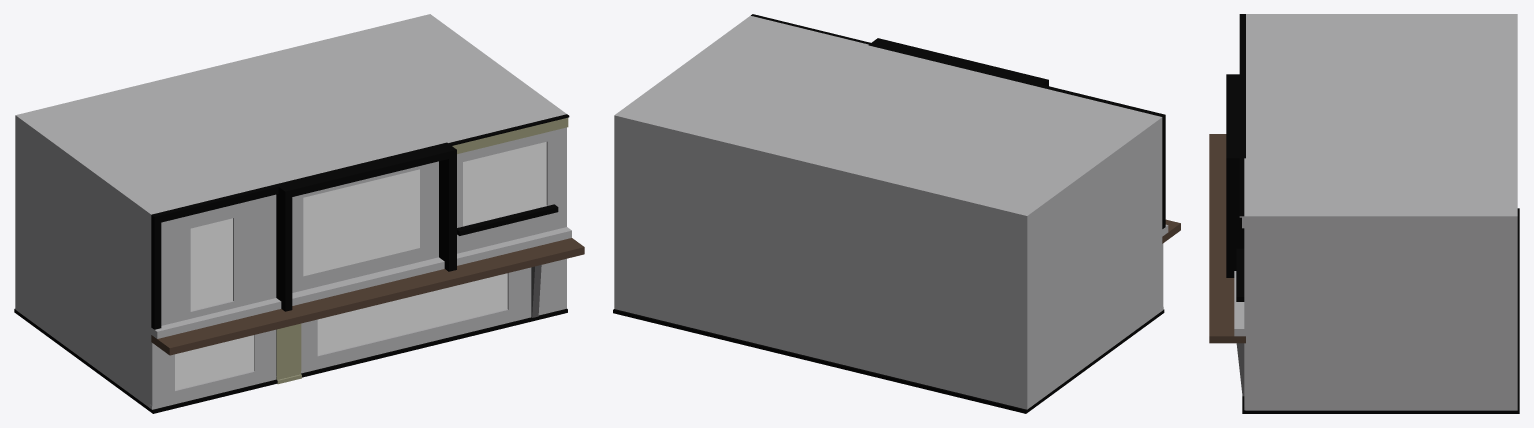
Rendered from Shoppingventer3.fbx.
3 renders of one model, left to right at view 1: azimuth 30°, elevation 25°; view 2: azimuth 150°, elevation 25°; view 3: azimuth 270°, elevation 25°, orthographic.
Visible parts, largest first — view 1: Cube.006; view 2: Cube.006; view 3: Cube.006.
Boxes of the visible parts, <box> form: Cube.006: <box>14,14,584,413</box>; Cube.006: <box>613,14,1180,413</box>; Cube.006: <box>1209,14,1519,413</box>.
Size of the model in its own units: 7145 by 3257 by 4635.
